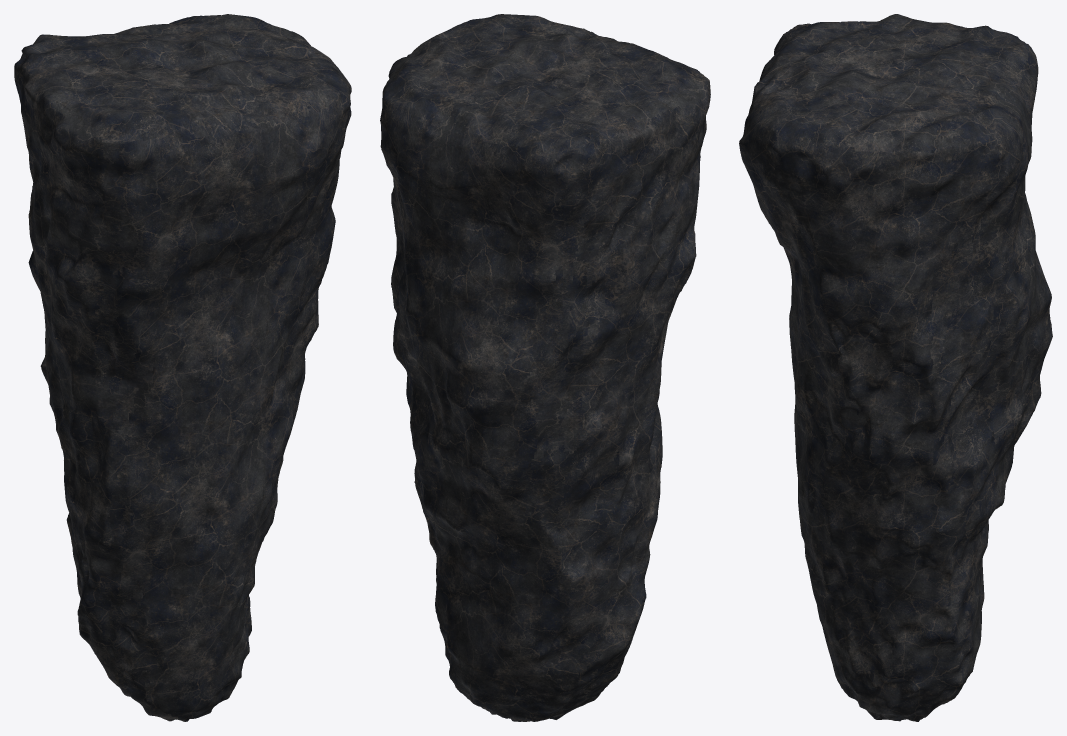
The picture shows the model from 3 angles, left to right: view 1: azimuth 30°, elevation 25°; view 2: azimuth 150°, elevation 25°; view 3: azimuth 270°, elevation 25°; orthographic projection.
Parts seen in each view (by area): view 1: Cube.001; view 2: Cube.001; view 3: Cube.001.
Boxes of the visible parts, <box> form: Cube.001: <box>14,14,351,721</box>; Cube.001: <box>380,14,710,721</box>; Cube.001: <box>739,14,1052,721</box>.
Size of the model in its own units: 177 by 393 by 172.
1 material, 1 textured.
